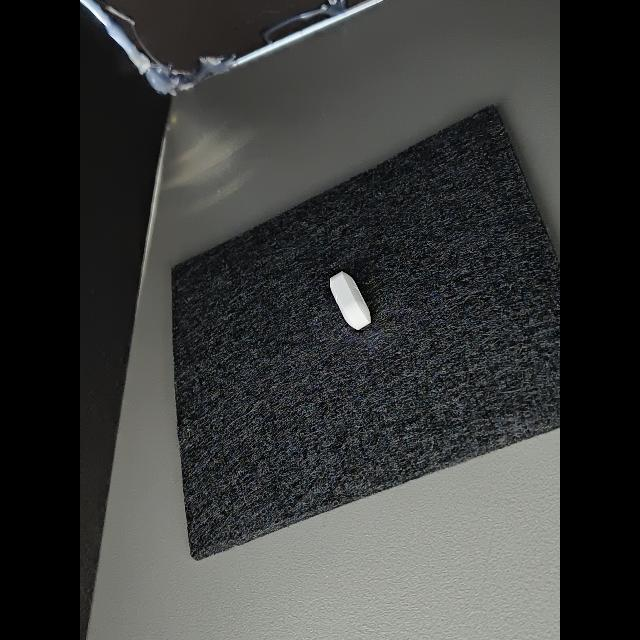Intact Pill: (330, 271, 371, 330)
